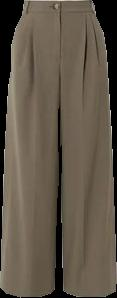Hemline: (0, 285, 55, 297), (63, 288, 116, 297)
Pantleg: (0, 0, 59, 296), (60, 0, 116, 296)
Waistline: (21, 9, 94, 15), (22, 0, 90, 3)
